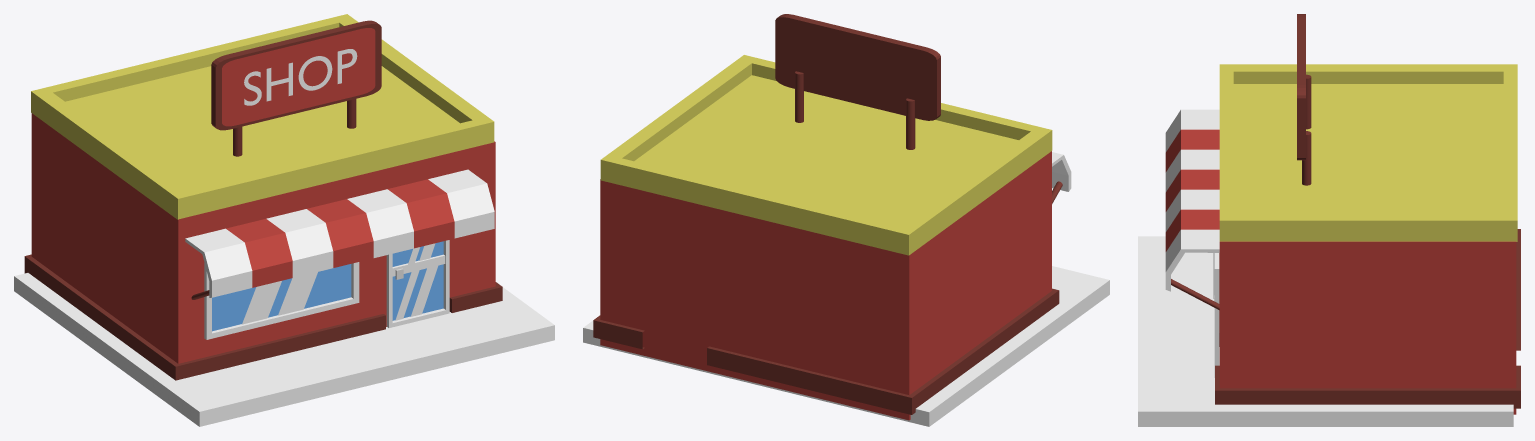
The model's file is shop.fbx.
3 views of the same model, side by side, from view 1: azimuth 30°, elevation 25°; view 2: azimuth 150°, elevation 25°; view 3: azimuth 270°, elevation 25° (orthographic). The views are drawn at different scales.
Visible parts, largest first — view 1: Plane.004, Cube.001, Cube, Plane.006, Plane.005, Cube.002, Plane.002, Plane.003, Plane.001, Plane.008, Plane, Text (+2 smaller); view 2: Cube.001, Plane.004, Plane.005, Cube.002, Cube, Cylinder, Plane.006; view 3: Plane.004, Cube.001, Cube, Plane.006, Cube.002, Plane.005, Cylinder, Plane.
Part boxes in pixels (x1=…): Plane.004: x1=31, y1=14, x2=494, y2=219; Cube.001: x1=31, y1=113, x2=495, y2=363; Cube: x1=14, y1=273, x2=554, y2=426; Plane.006: x1=185, y1=169, x2=494, y2=297; Plane.005: x1=211, y1=20, x2=381, y2=130; Cube.002: x1=24, y1=254, x2=502, y2=380; Plane.002: x1=212, y1=264, x2=351, y2=331; Plane.003: x1=392, y1=241, x2=443, y2=320; Plane.001: x1=204, y1=262, x2=359, y2=339; Plane.008: x1=242, y1=272, x2=317, y2=324; Plane: x1=386, y1=240, x2=449, y2=327; Text: x1=244, y1=49, x2=357, y2=105; Cube.001: x1=600, y1=151, x2=1051, y2=420; Plane.004: x1=600, y1=55, x2=1052, y2=255; Plane.005: x1=775, y1=14, x2=940, y2=120; Cube.002: x1=593, y1=288, x2=1059, y2=414; Cube: x1=583, y1=266, x2=1109, y2=426; Cylinder: x1=795, y1=71, x2=915, y2=149; Plane.006: x1=1052, y1=152, x2=1071, y2=191; Plane.004: x1=1219, y1=64, x2=1517, y2=241; Cube.001: x1=1219, y1=241, x2=1516, y2=414; Cube: x1=1138, y1=236, x2=1513, y2=426; Plane.006: x1=1165, y1=109, x2=1219, y2=291; Cube.002: x1=1215, y1=229, x2=1520, y2=408; Plane.005: x1=1297, y1=14, x2=1305, y2=160; Cylinder: x1=1302, y1=74, x2=1311, y2=185; Plane: x1=1214, y1=253, x2=1219, y2=377.
Size of the model in its own units: 986 by 754 by 908.
